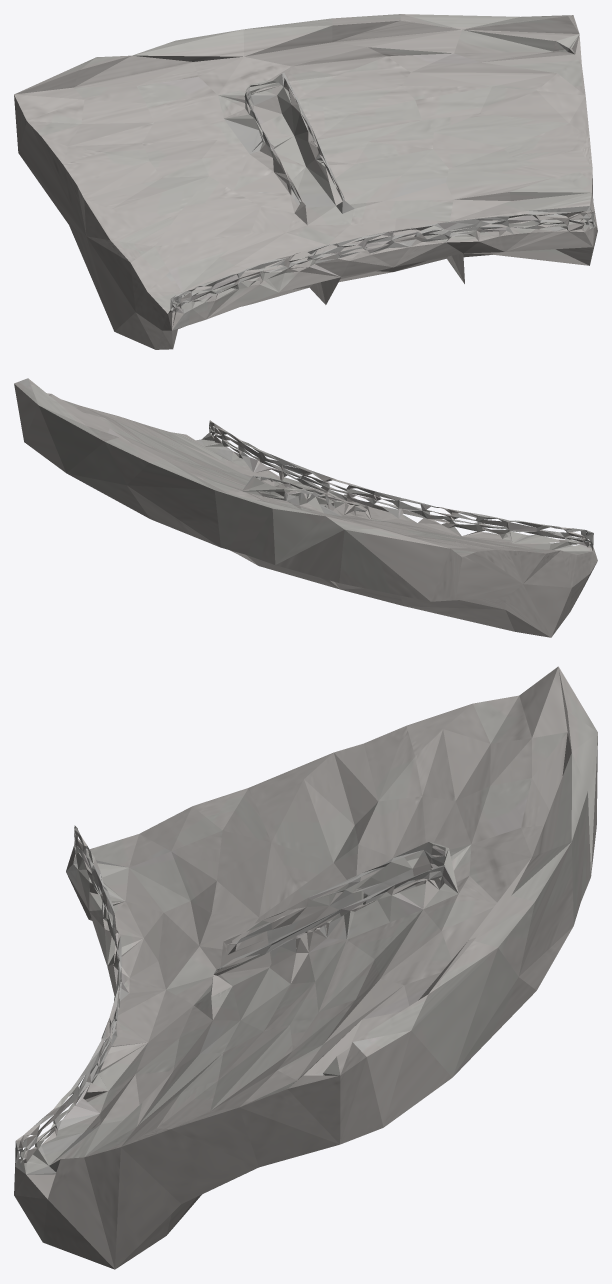
File: bleacher_concrete_low.glb
The picture shows the model from 3 angles, top to bottom: view 1: azimuth 30°, elevation 25°; view 2: azimuth 150°, elevation 25°; view 3: azimuth 270°, elevation 25°; orthographic projection. The views are drawn at different scales.
Parts seen in each view (by area): view 1: m; view 2: m; view 3: m.
Boxes of the visible parts, x1,y1,x2,y2 form: m: [14, 14, 597, 349]; m: [14, 378, 597, 637]; m: [14, 666, 597, 1269].
Bounding box in the file's own units: 12.28 × 4 × 7.72.
Materials: 1 (1 with a texture image).
